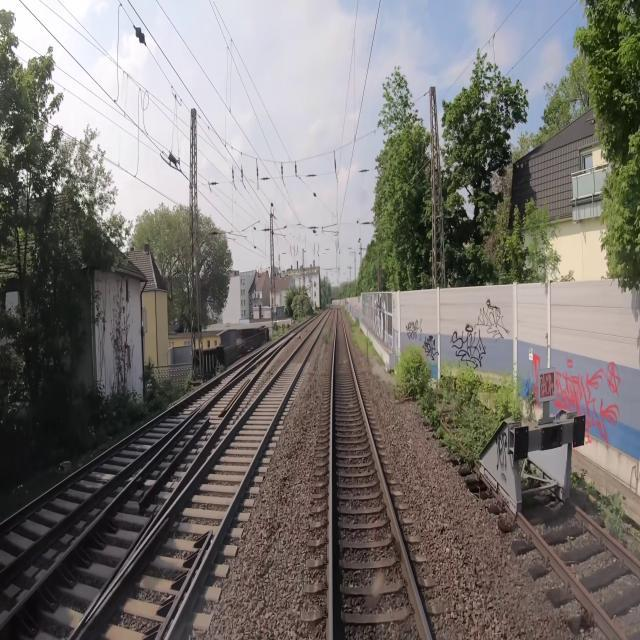Plant: (396, 381, 506, 460), (594, 493, 626, 540)
